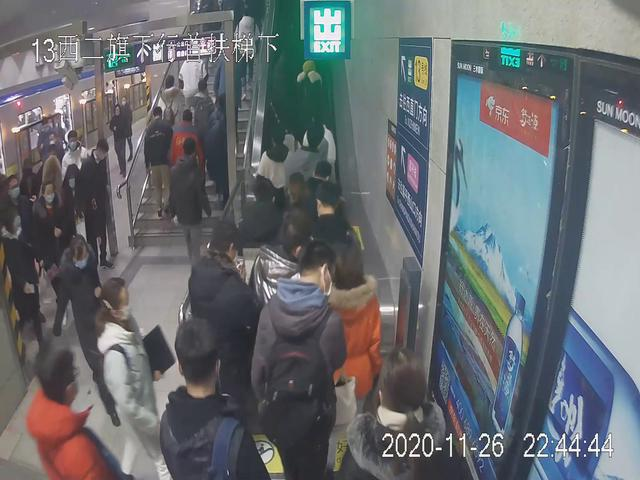person: (245, 242, 355, 480), (186, 218, 288, 457), (154, 317, 262, 475), (99, 276, 175, 480), (52, 233, 128, 422), (323, 247, 388, 460), (2, 206, 47, 368), (170, 136, 212, 282), (74, 138, 119, 272), (136, 103, 173, 217), (167, 109, 204, 212), (110, 104, 127, 181)
